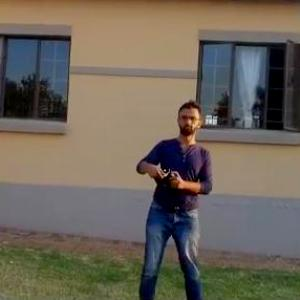follow: (128, 92, 217, 299)
